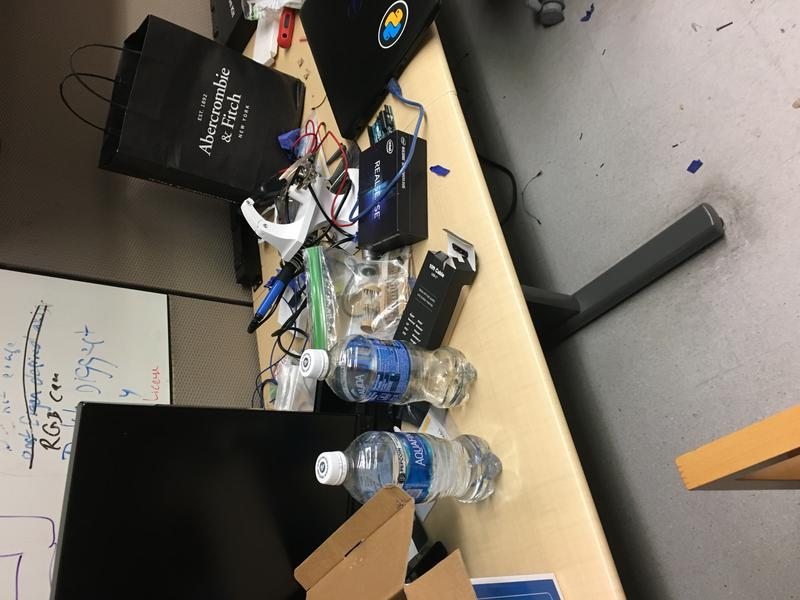bottle: (310, 428, 505, 514), (297, 335, 480, 410)
